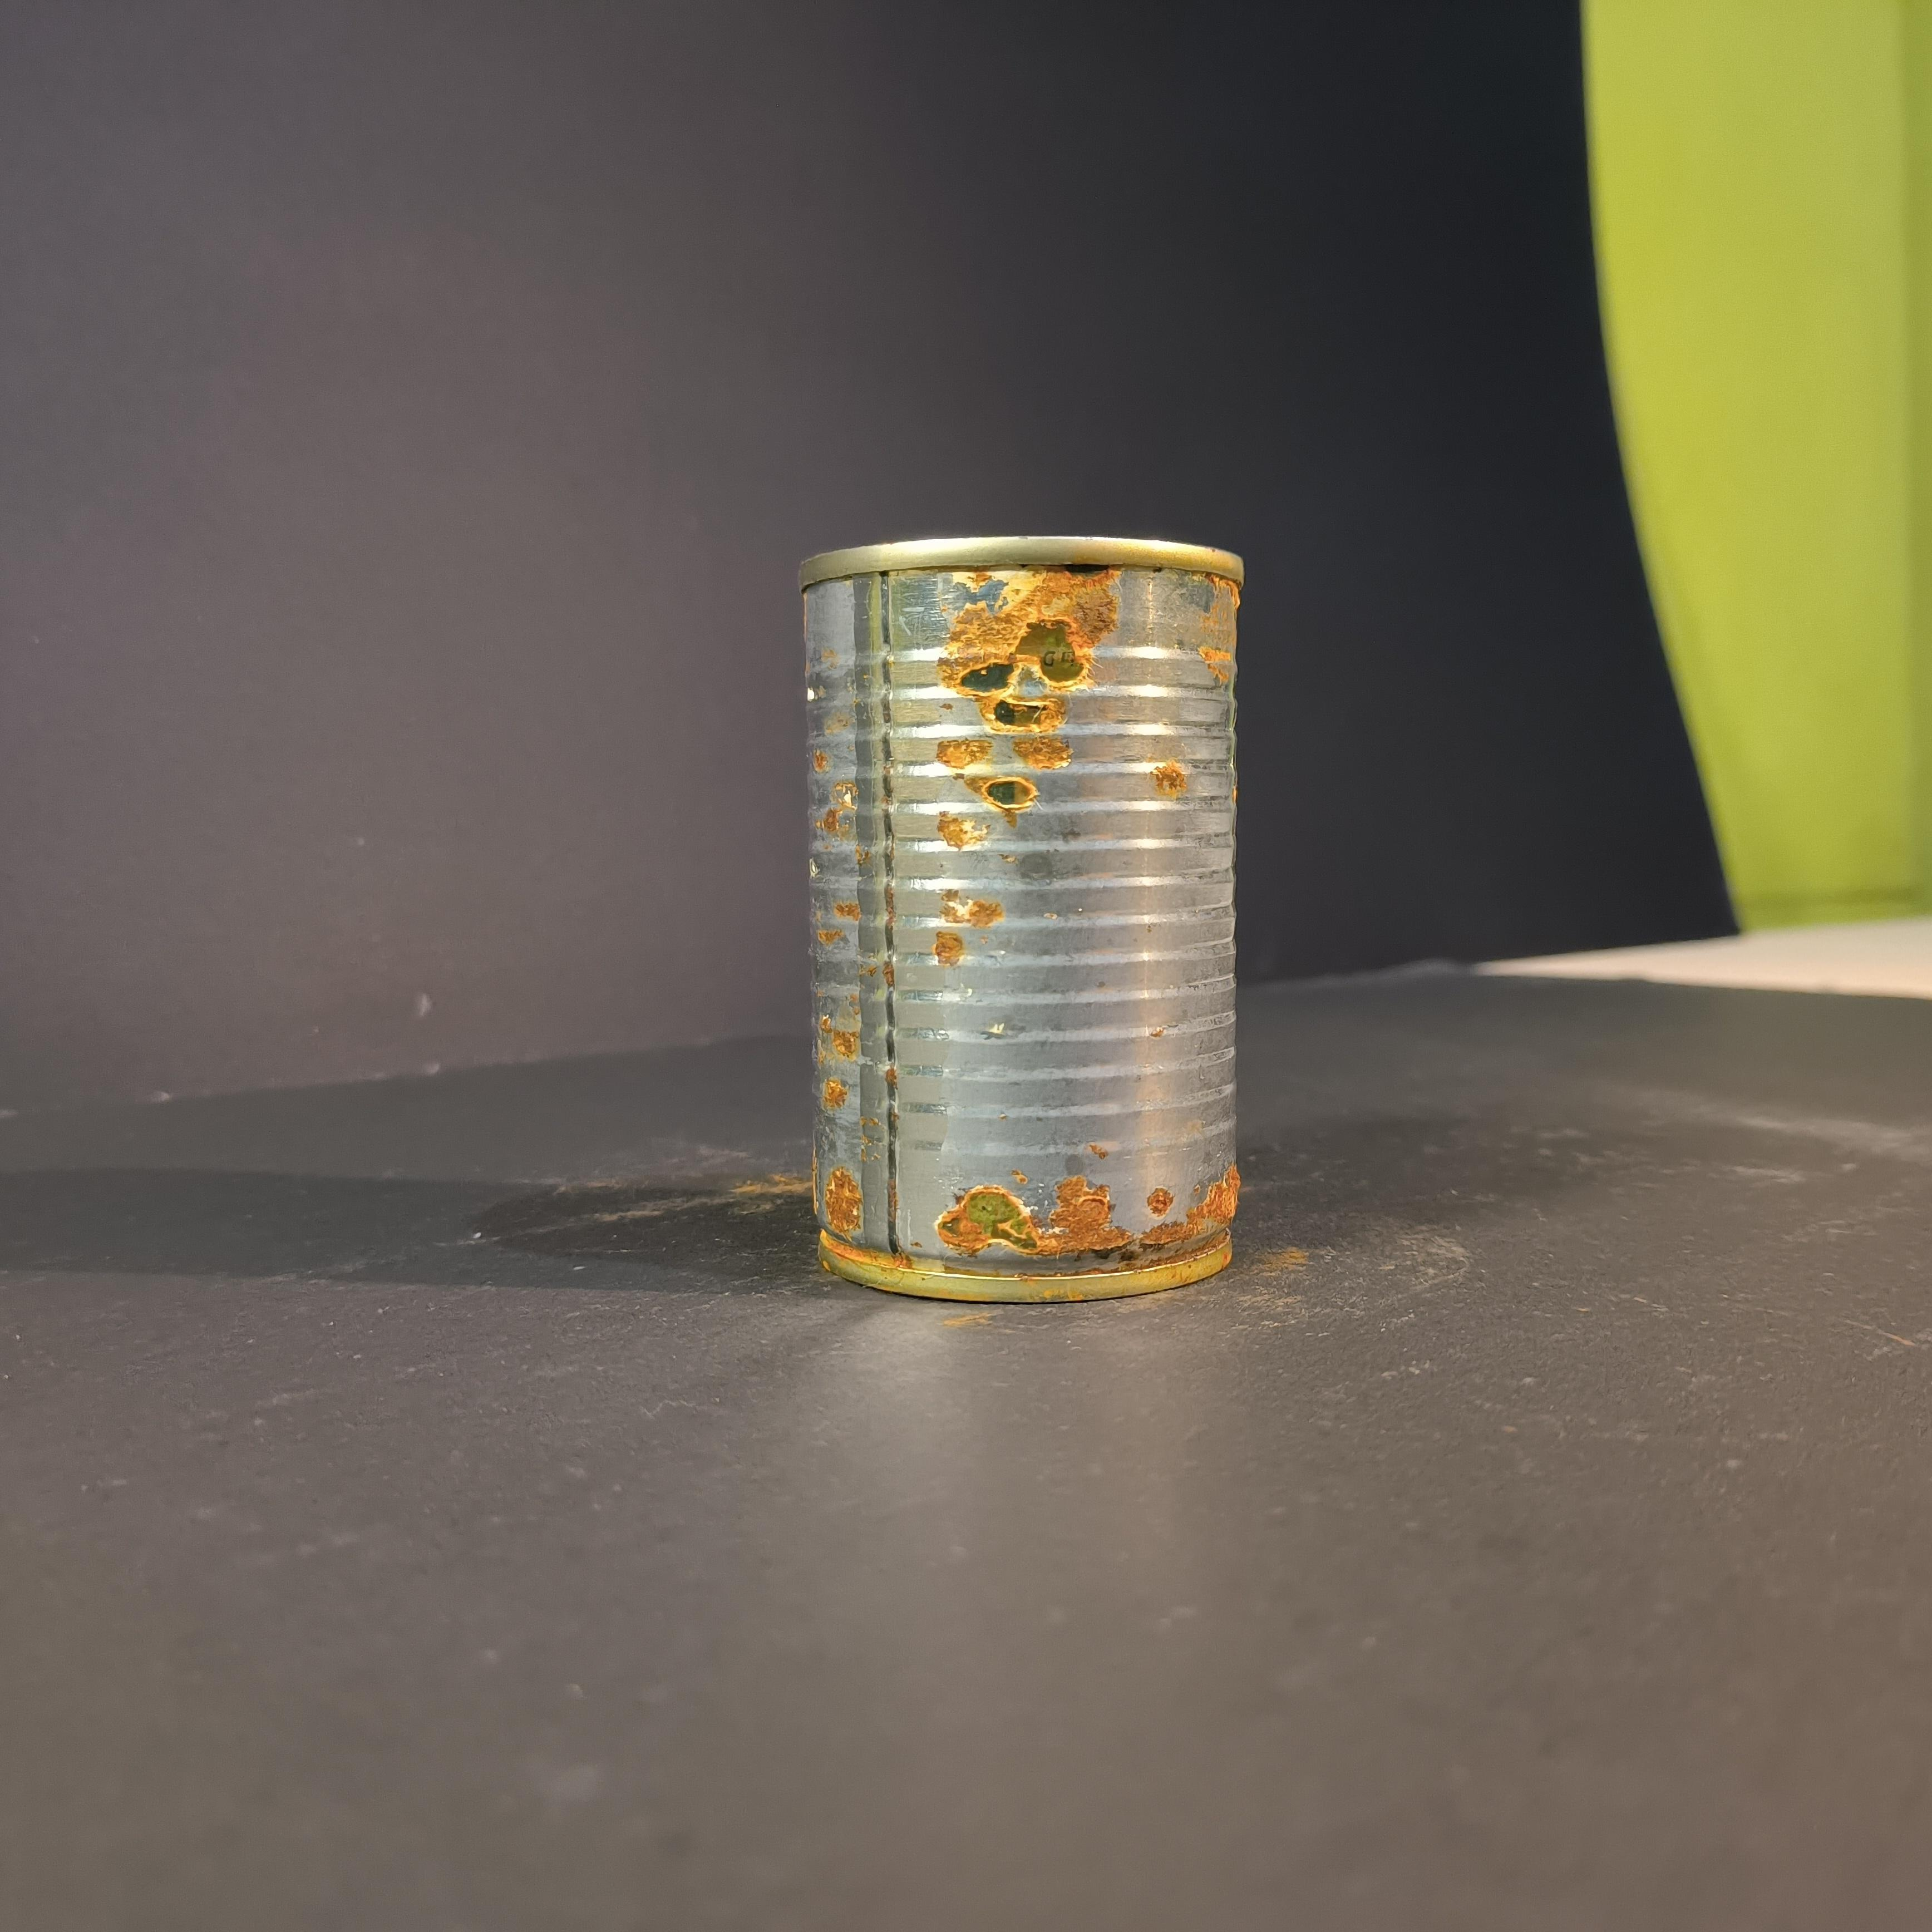Rusted: (787, 526, 1277, 1310)
